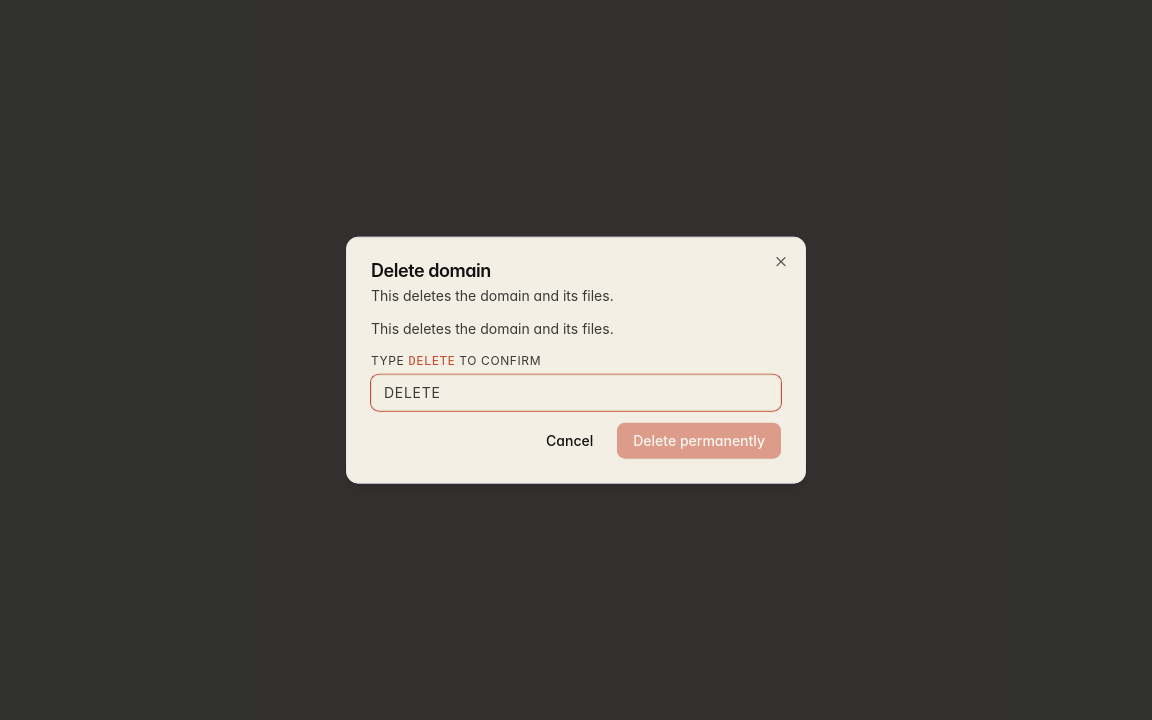
Scenario: TypedConfirmDialog › confirm button is disabled until the typed input exactly matches `word`
Expected: the dialog is shown, 346,237 -> 806,483
Expected: the button "Delete permanently" is disabled, 617,422 -> 781,458
Type "DELET" into the field with placeholder "DELETE" at [576, 392], box 371,374 -> 781,410
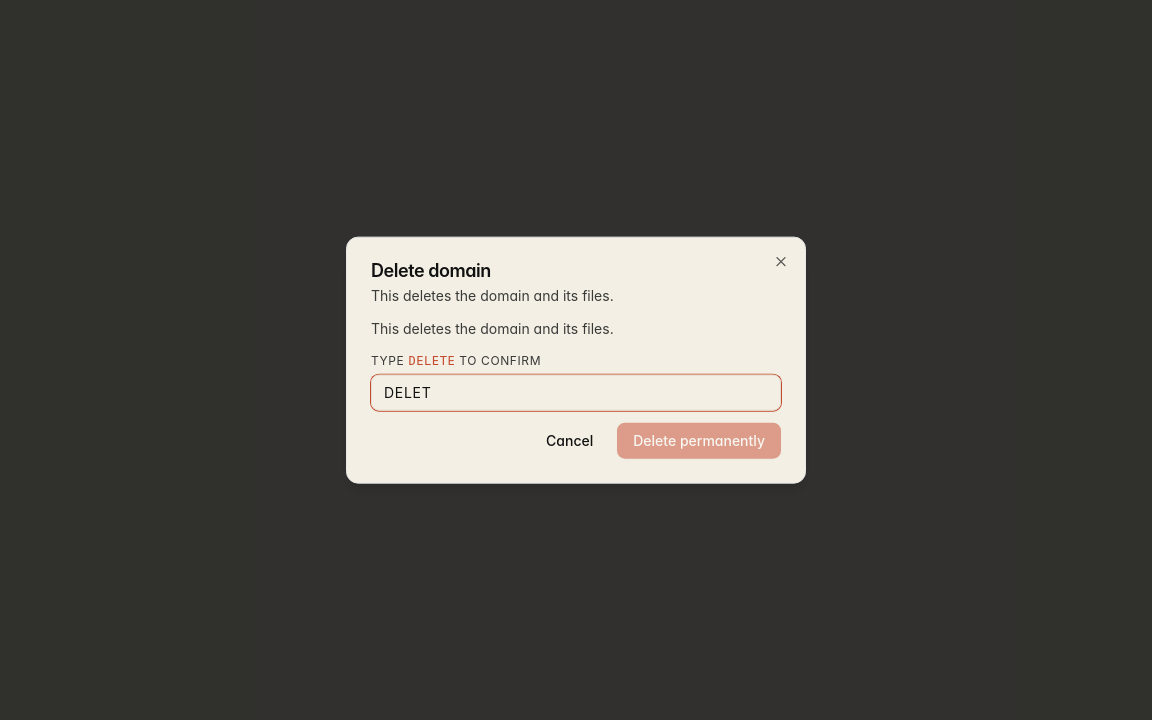
Expected: the button "Delete permanently" is disabled, 617,422 -> 781,458
Type "E" into the field with placeholder "DELETE" at [576, 392], box 371,374 -> 781,410
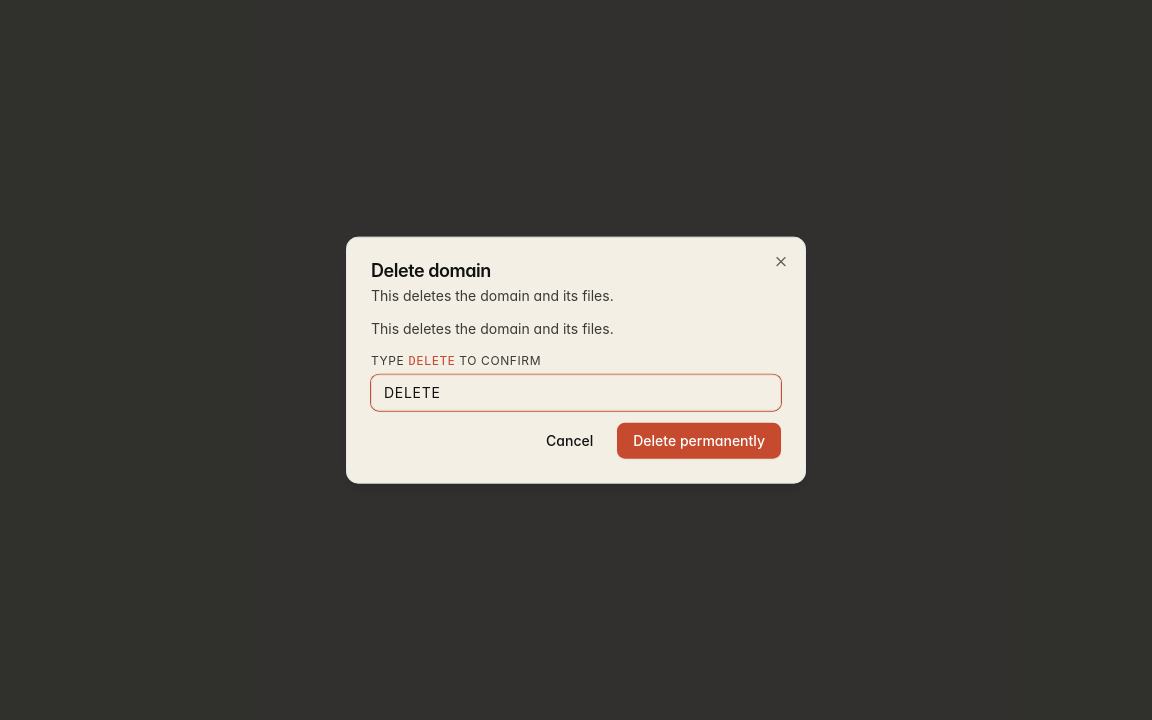
Expected: the button "Delete permanently" is enabled, 617,422 -> 781,458
